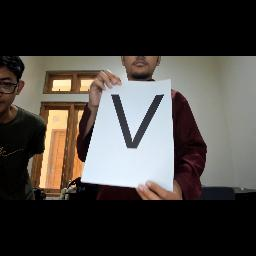v: (106, 86, 174, 162)
